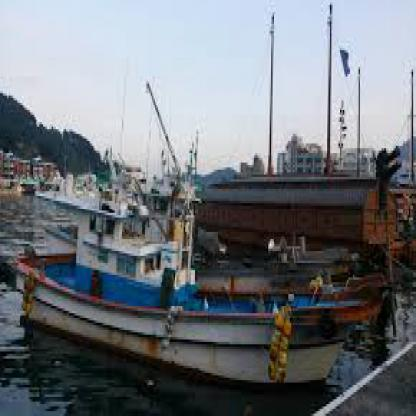fish-b: (6, 182, 390, 399)
